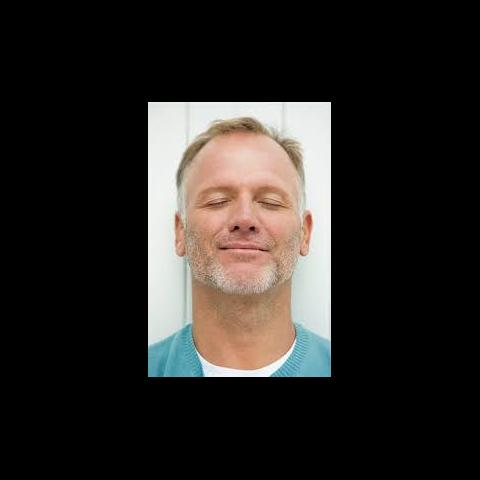closed: (182, 178, 306, 220)
